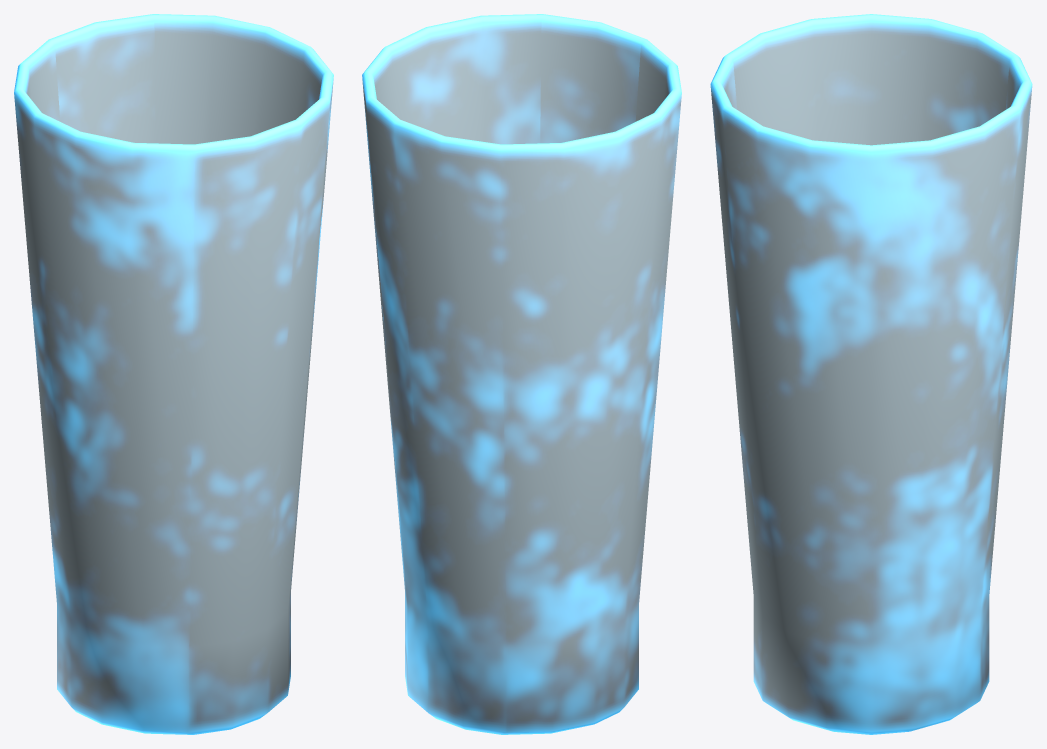
Rendered from SM_Vaso.fbx.
The picture shows the model from 3 angles, left to right: view 1: azimuth 30°, elevation 25°; view 2: azimuth 150°, elevation 25°; view 3: azimuth 270°, elevation 25°; orthographic projection.
Parts seen in each view (by area): view 1: Cylinder.003; view 2: Cylinder.003; view 3: Cylinder.003.
Part boxes in pixels (x1,y1,x2,y2): Cylinder.003: (14,14,333,734); Cylinder.003: (362,14,681,734); Cylinder.003: (710,14,1032,734).
Size of the model in its own units: 12.01 by 24.97 by 12.01.
